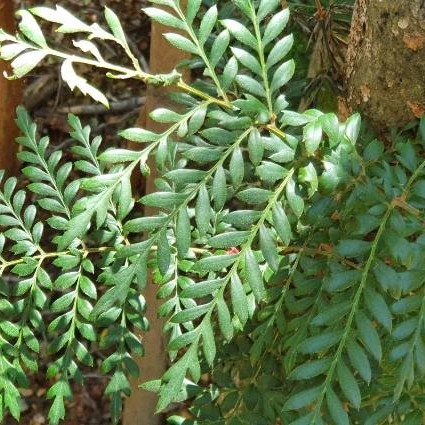obstacle: (29, 49, 399, 369)
